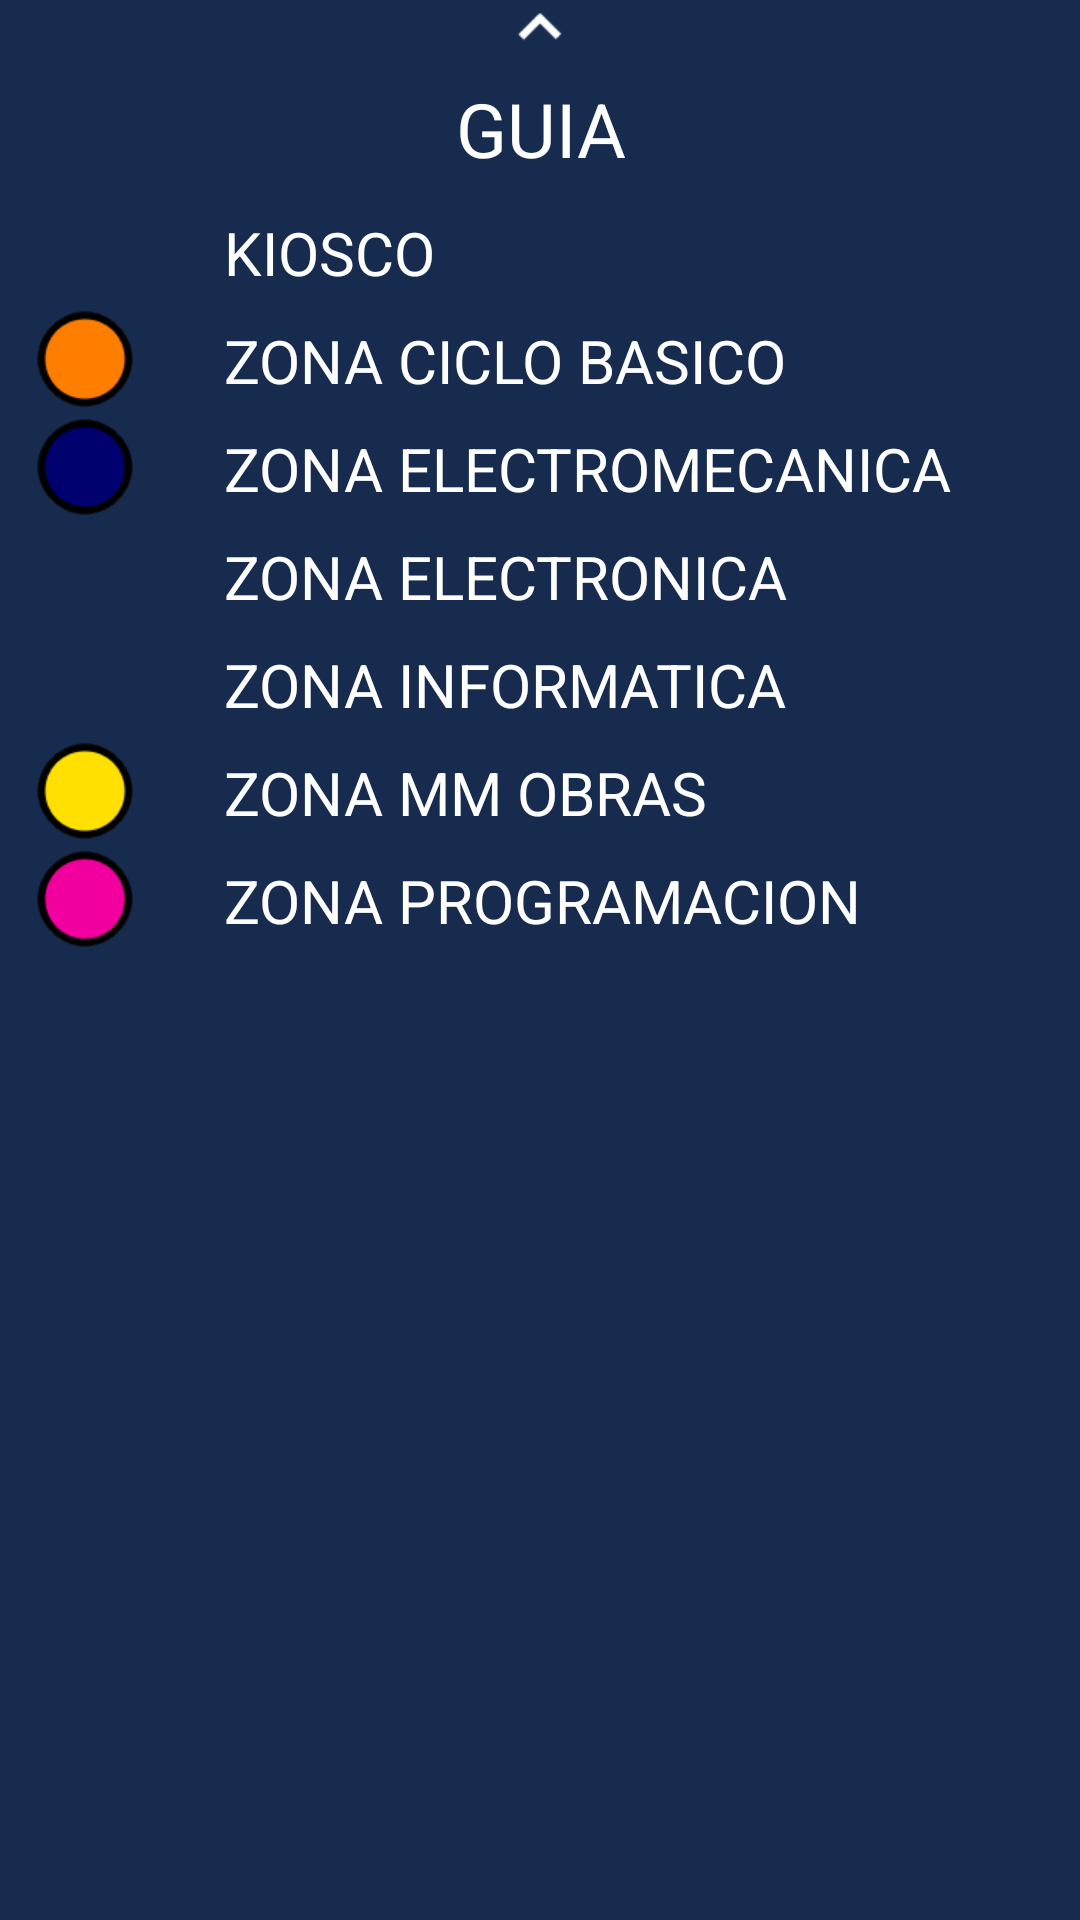

Icons on this 1080 x 1920 Android screen, each with the point to tap as point (x, y):
sheet arrow: point (540, 26)
